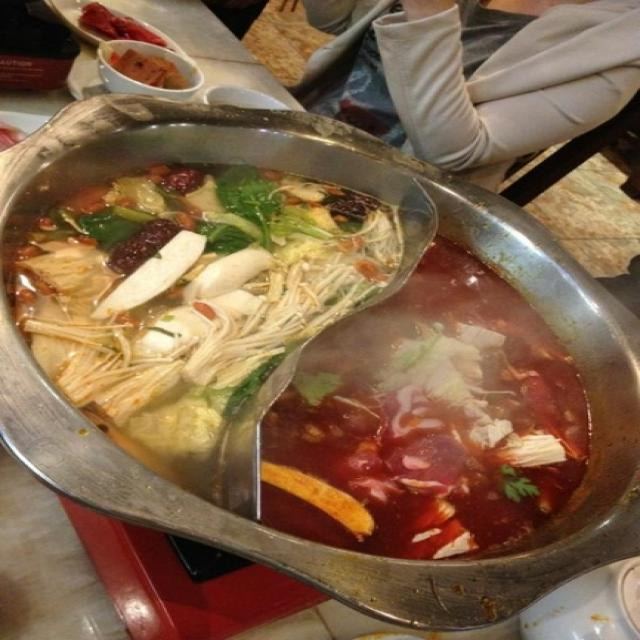汤锅炖物: (13, 63, 627, 597)
